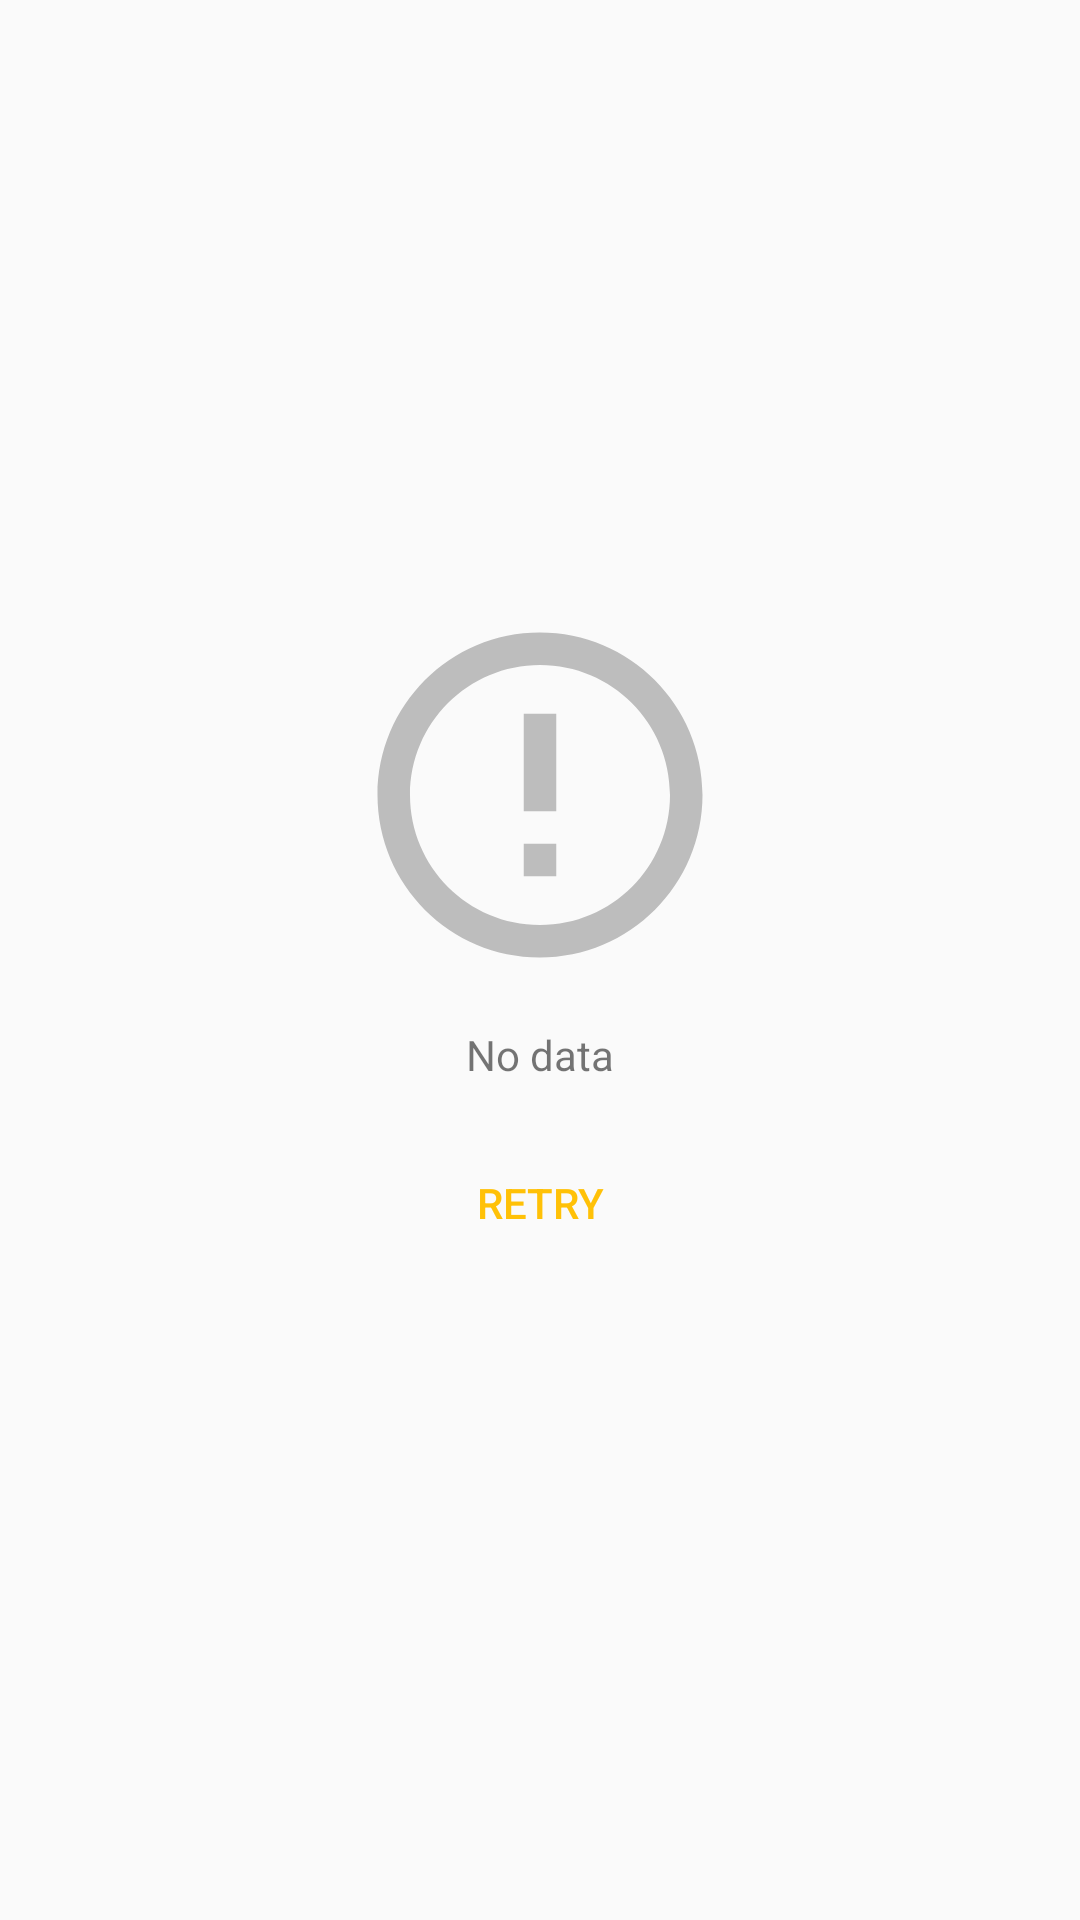

Where to tap for icons on this 1080w x 1920h app screen, as (x,y):
error: (540,795)
